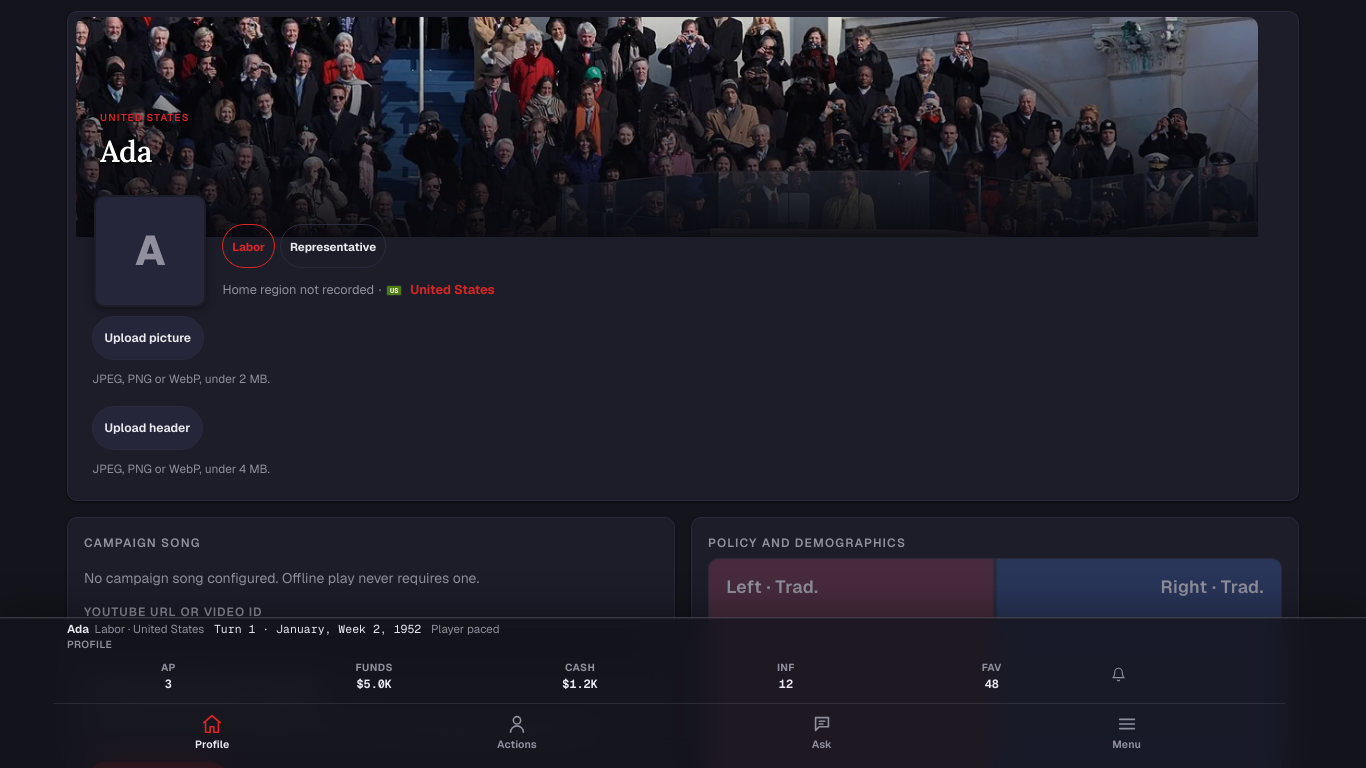
metrics/referendum gating at 1280px (#510) › hides unsupported rows when the signal denies them
The image size is (1366, 768).
Step 1. Click the button "Menu" → (1127,734), box [974,706,1279,762]
(page scrolled)
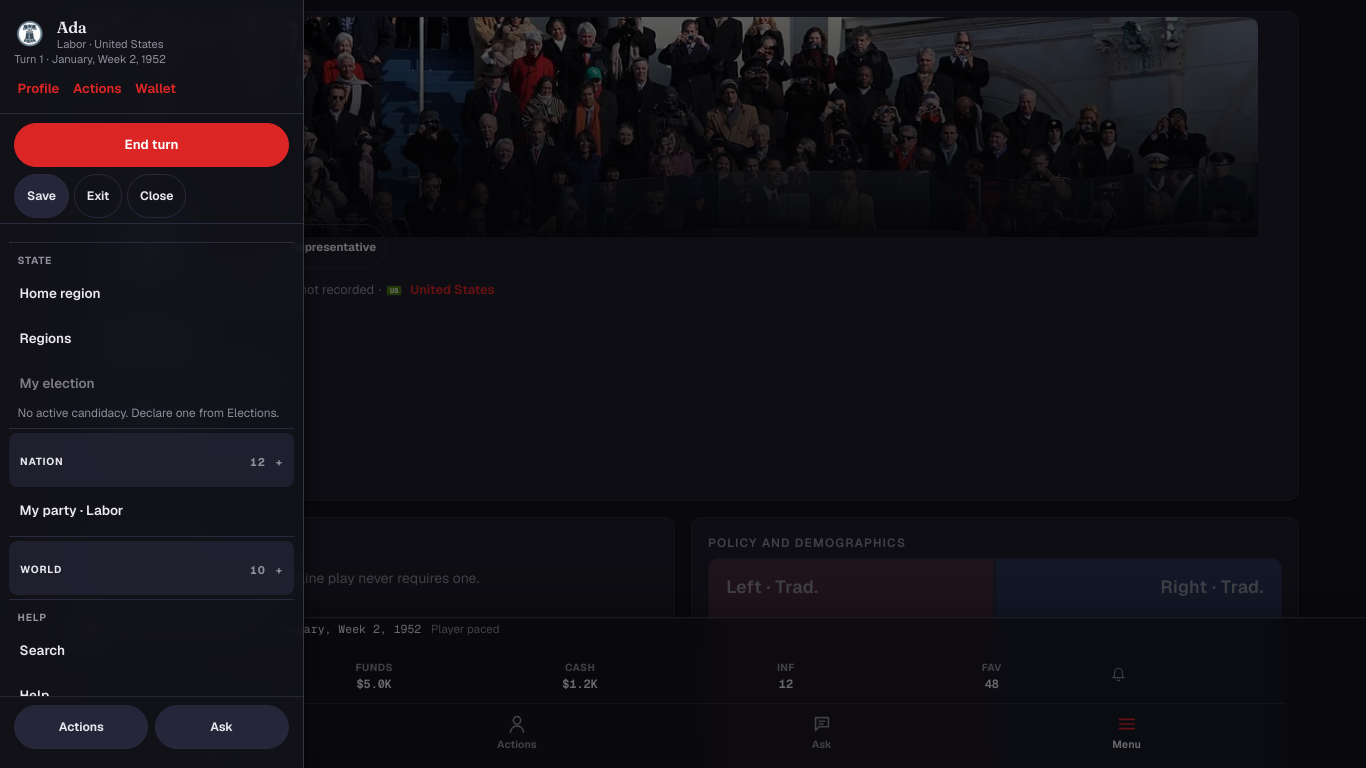
Step 2. Click the button "Nation 12 +" → (42,462), box [9,433,294,487]
(page scrolled)
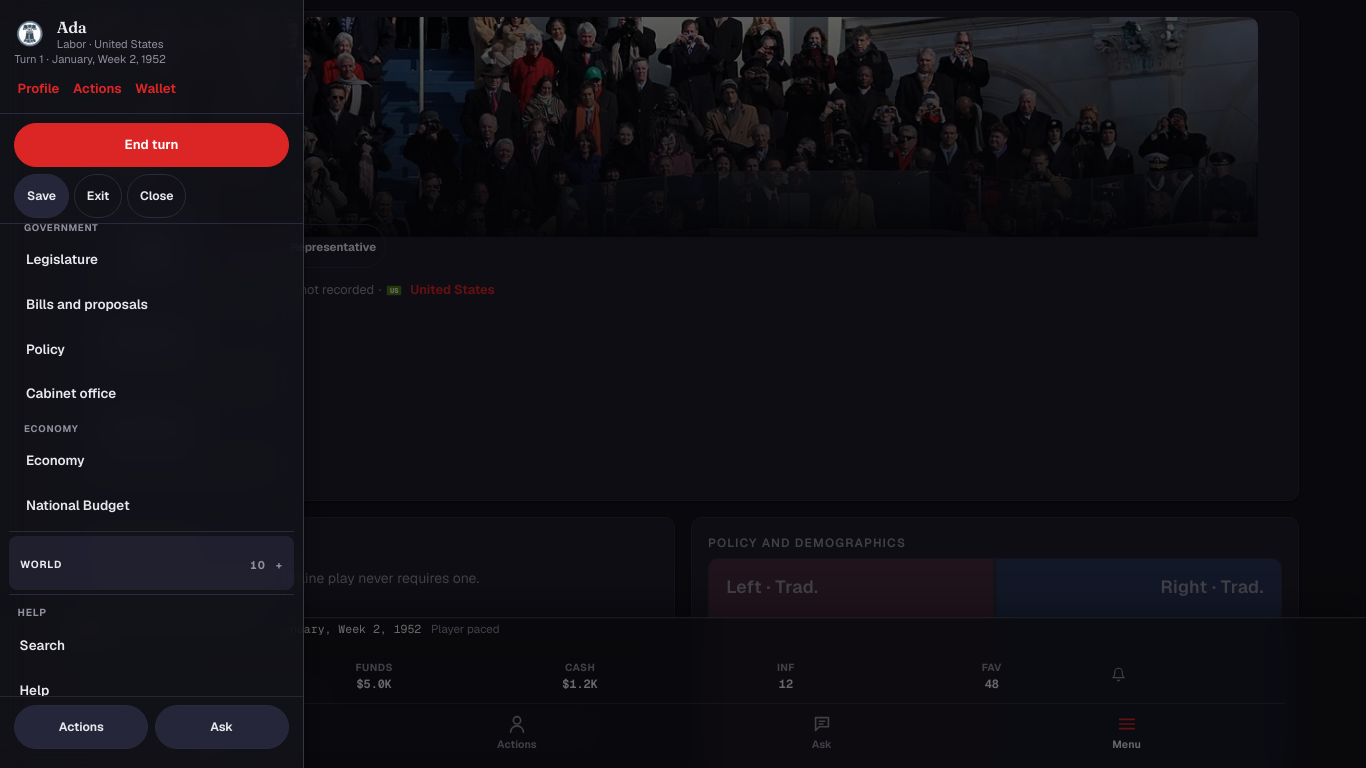
Expected: the button "Economy" is shown, [9,438,294,482]
